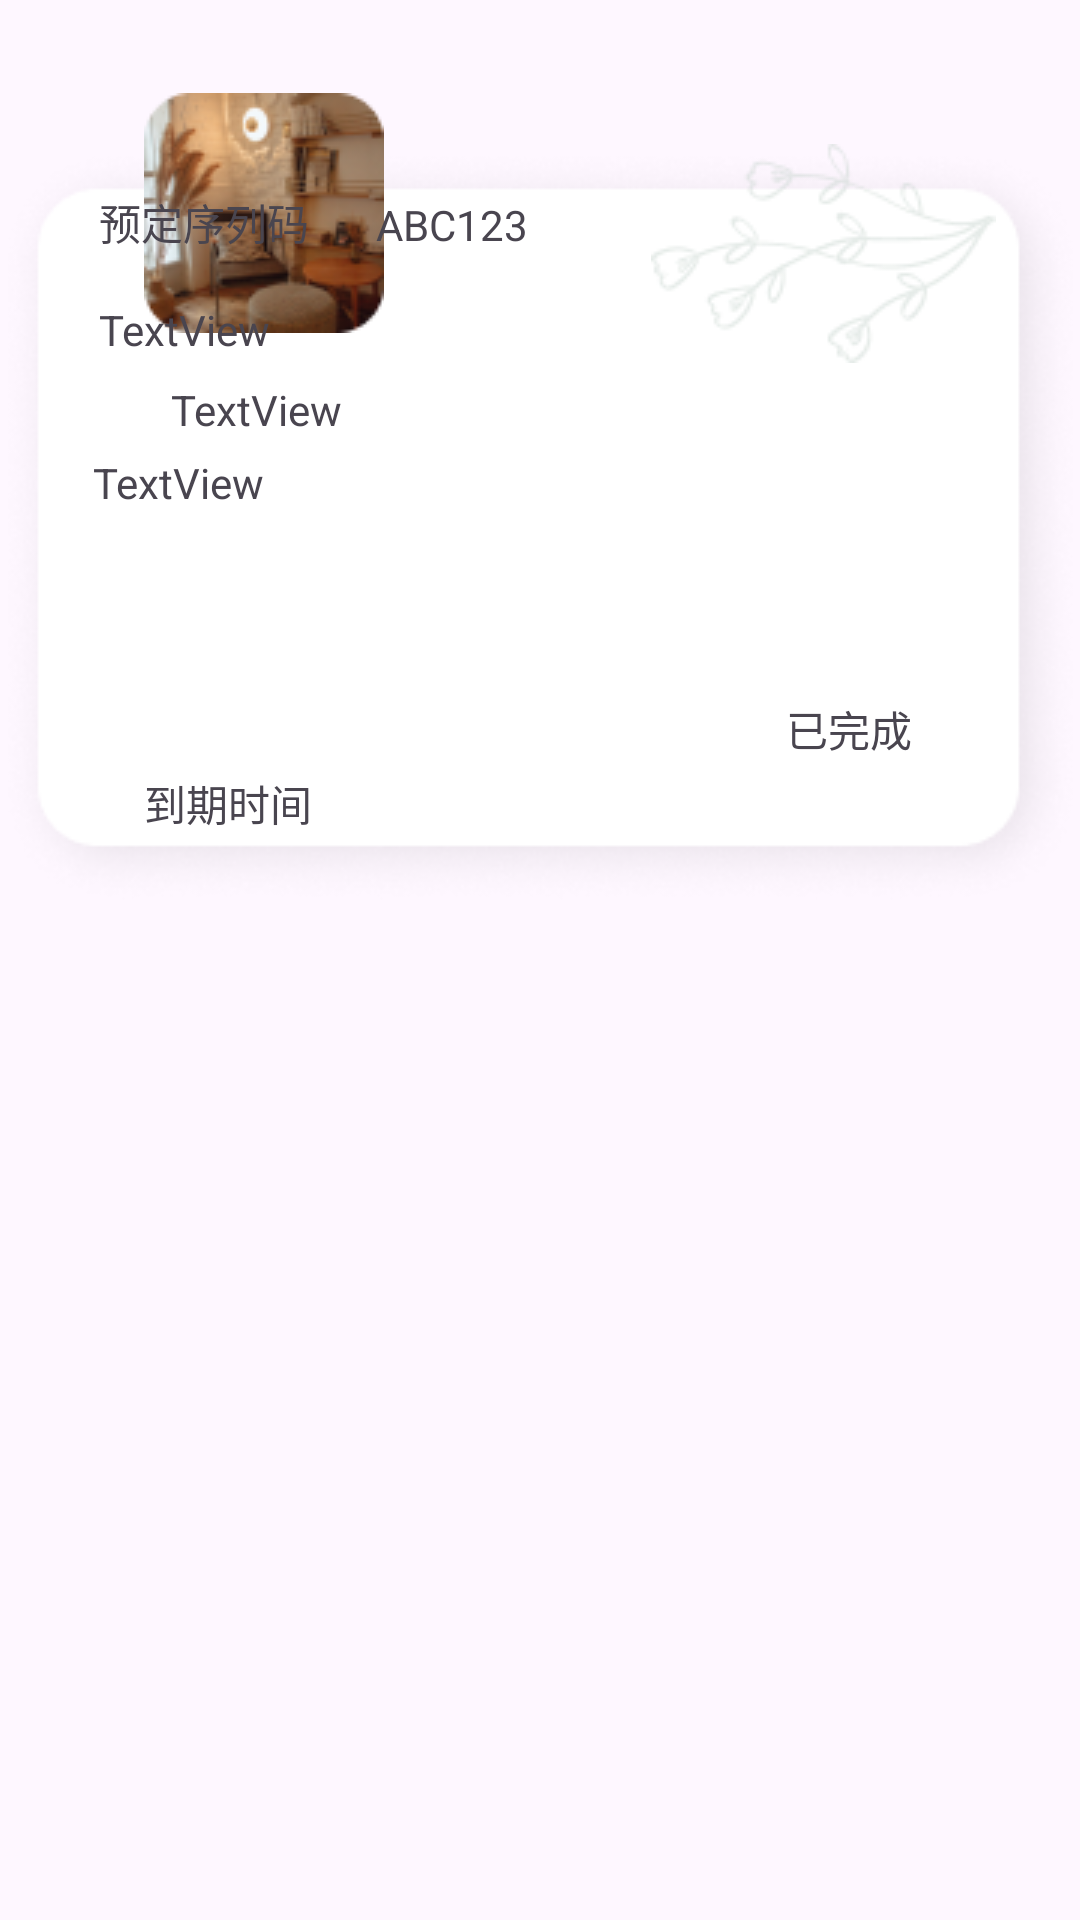

Icons on this 1080 x 1920 Android screen, each with its box as (x1, y1, x2, y2):
orderlist flower: (651, 144, 992, 363)
room: (144, 93, 384, 333)
